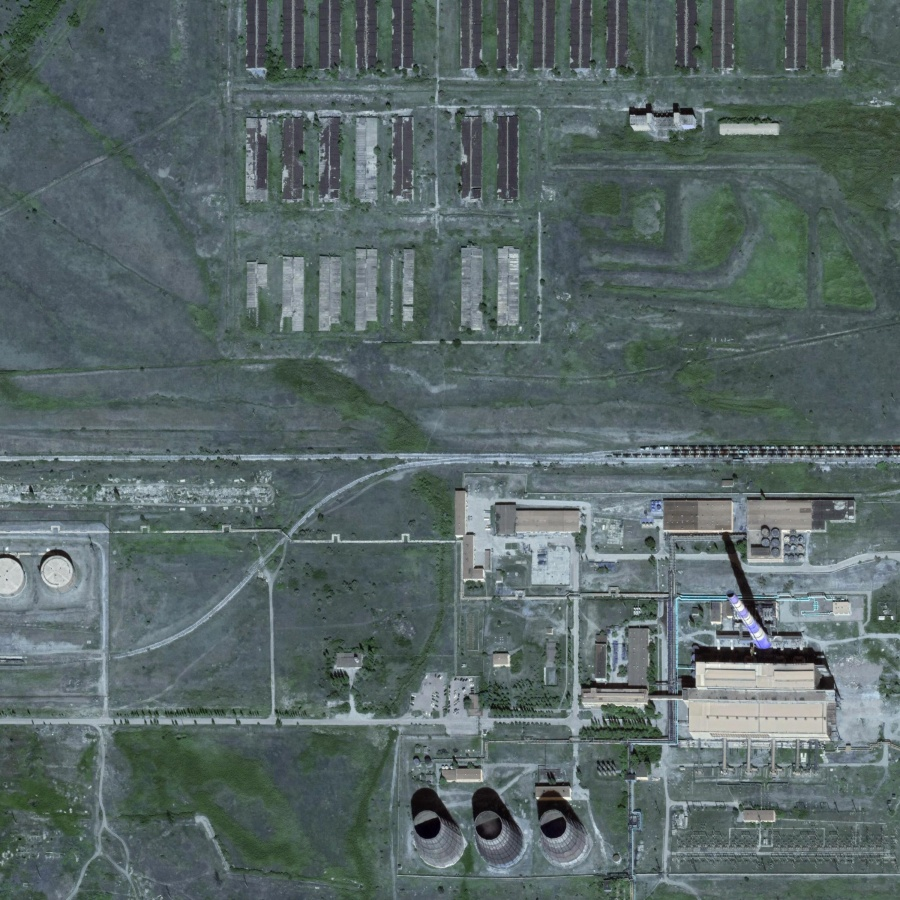PowerPlant: (384, 470, 866, 899)
